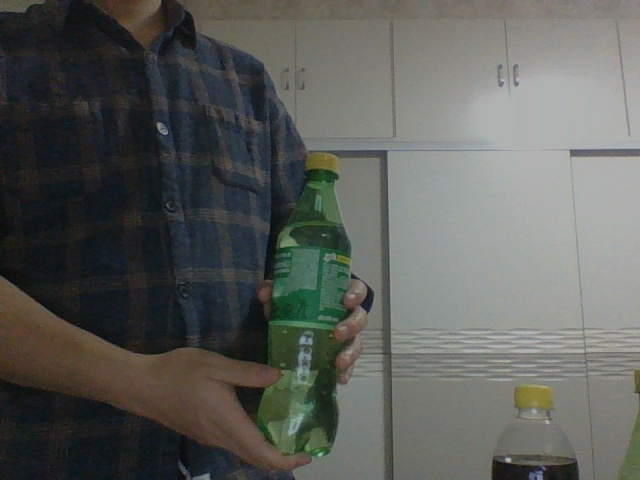Sprite: (255, 152, 354, 454)
